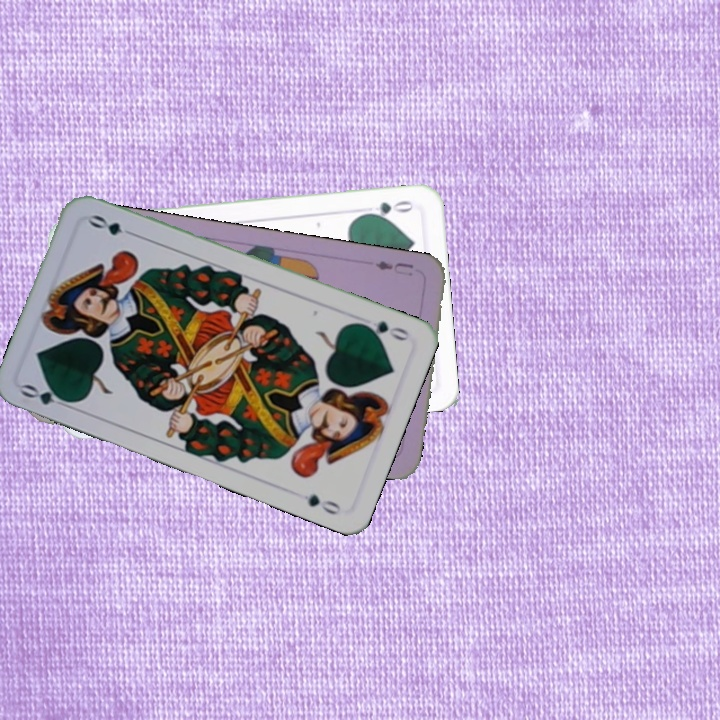EU: (371, 256, 416, 279)
GO: (17, 380, 76, 412), (354, 316, 412, 344), (359, 196, 416, 221)
